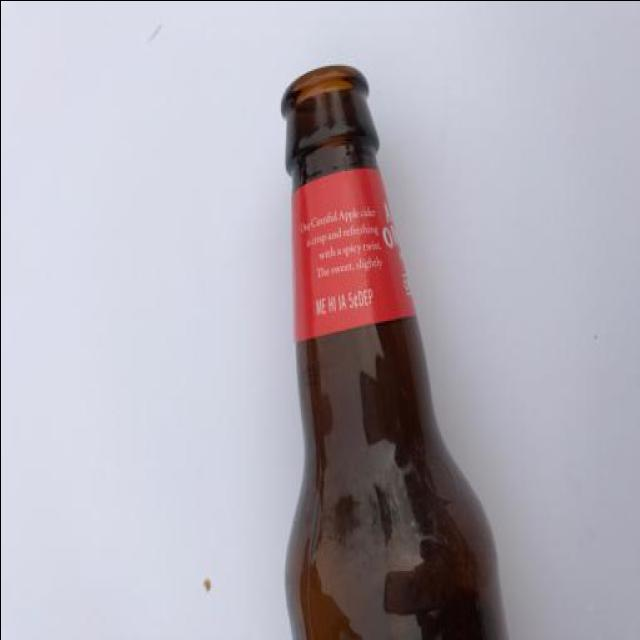glass: (258, 57, 512, 640)
